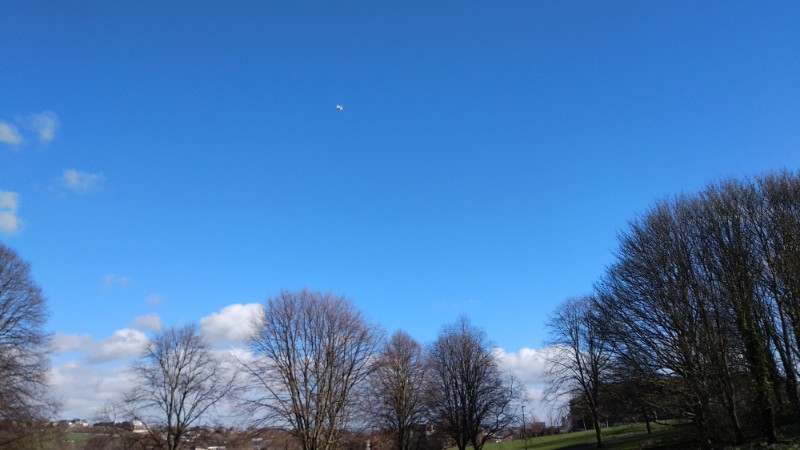drone: (332, 101, 345, 112)
